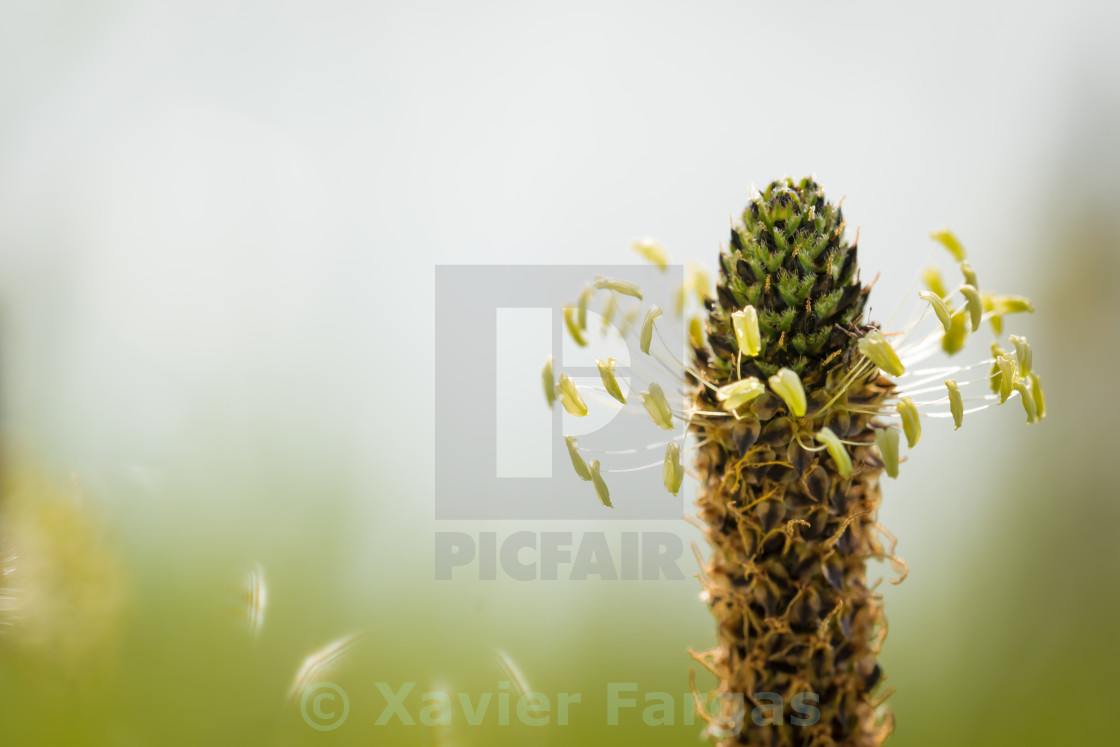buckhorn plantain: (526, 160, 1045, 747)
